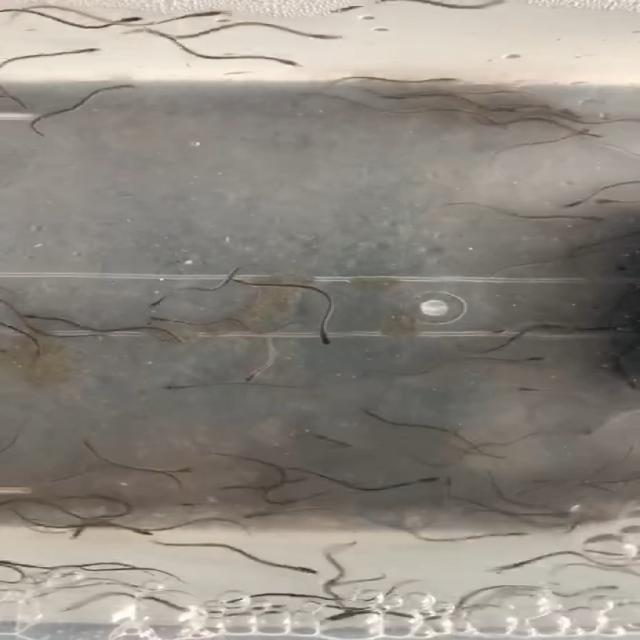active_glass_eel: (484, 557, 530, 577), (264, 54, 314, 72), (324, 1, 374, 19), (320, 608, 374, 624), (54, 593, 90, 615), (297, 29, 351, 43), (576, 420, 617, 438), (140, 314, 192, 328), (558, 192, 603, 208), (324, 538, 364, 556), (185, 3, 226, 20), (434, 475, 468, 495), (587, 194, 633, 208), (174, 500, 218, 514), (142, 294, 176, 312), (513, 383, 556, 397), (58, 45, 110, 56), (153, 381, 205, 392), (312, 326, 342, 345), (285, 562, 322, 577), (570, 214, 614, 226), (18, 310, 54, 324), (166, 466, 206, 478), (126, 523, 158, 538), (110, 12, 144, 26), (244, 510, 287, 521), (409, 474, 448, 486), (111, 82, 143, 96), (61, 525, 82, 546), (356, 407, 385, 422), (518, 352, 549, 366), (239, 368, 269, 382), (488, 102, 520, 115), (428, 72, 462, 84), (365, 91, 409, 100), (562, 125, 597, 136), (489, 328, 529, 336), (77, 437, 99, 450)
